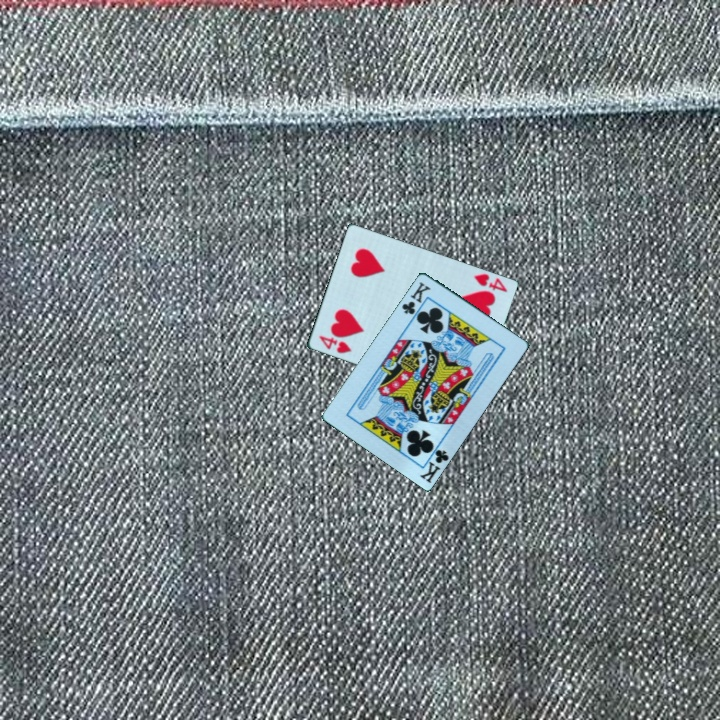4h: (470, 270, 510, 295), (315, 332, 354, 357)
Kc: (416, 439, 452, 486), (398, 278, 434, 317)
